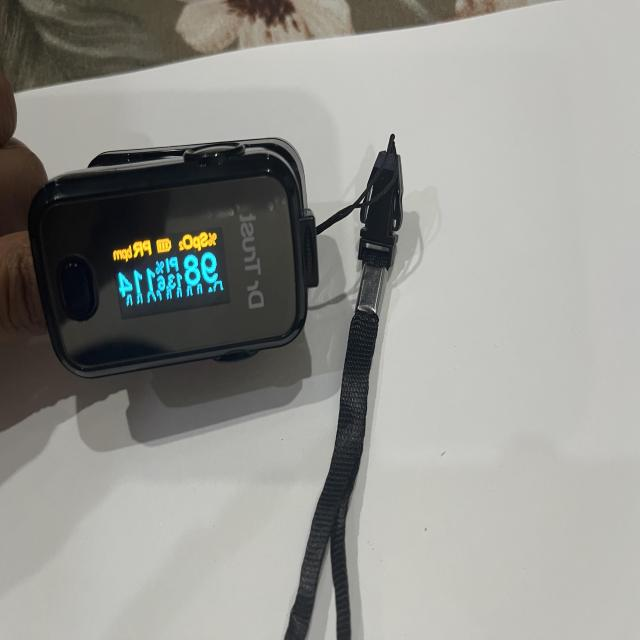spo2: (27, 139, 319, 381)
